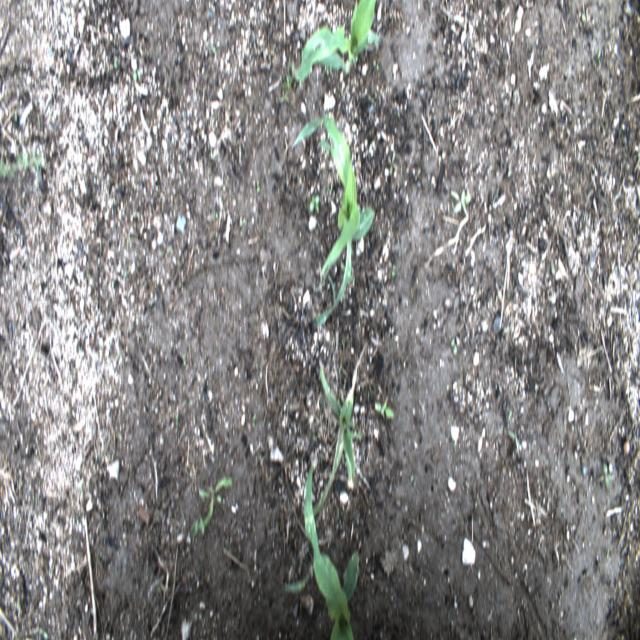crop: (290, 113, 378, 327), (313, 338, 367, 517), (304, 462, 358, 639), (293, 1, 384, 84)
weed: (190, 476, 236, 540), (596, 462, 616, 490), (374, 394, 396, 419), (310, 192, 320, 214)
